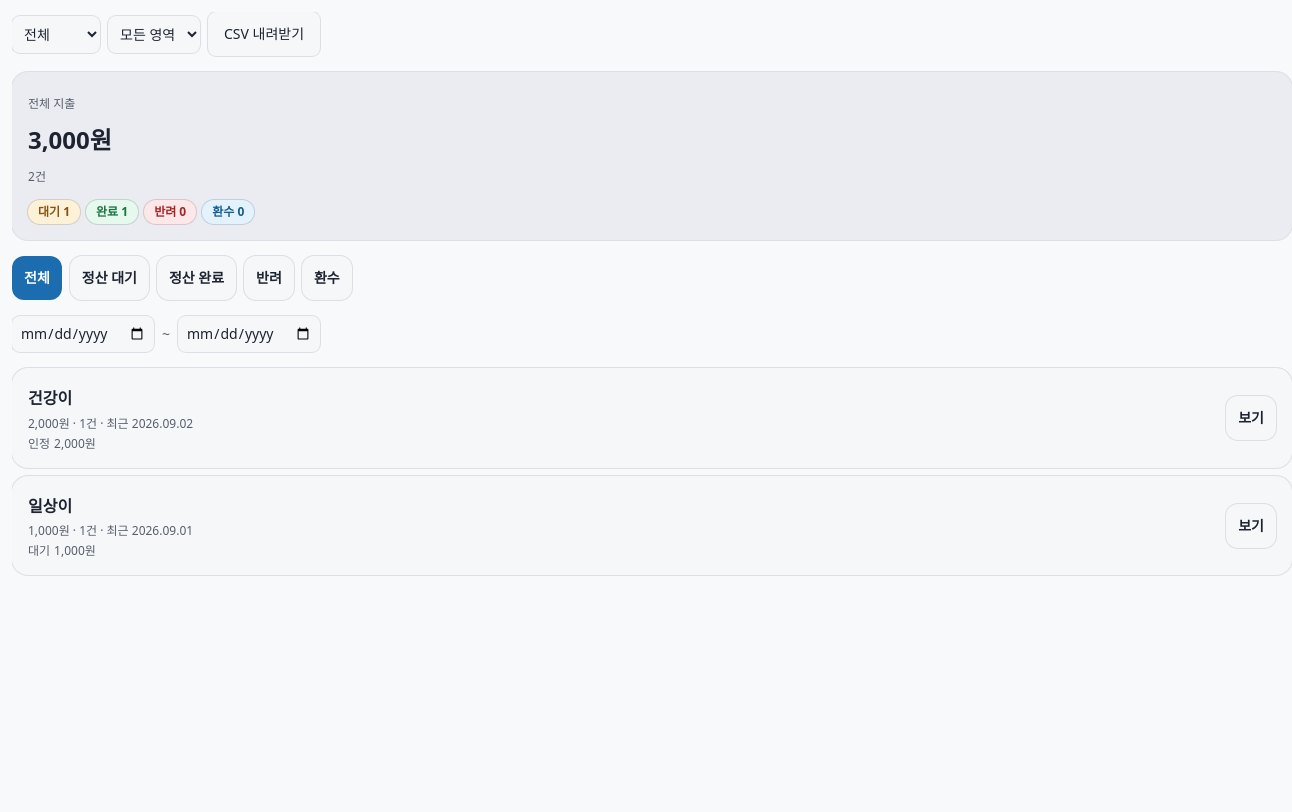
it: OrgLedgerClient — 영역 필터 + CSV export (A5) › 영역을 고르면 그 영역이 아닌 참여자가 사라진다
The image size is (1292, 812).
Expected: the text "일상이" is shown, top-left (28, 495), bottom-right (72, 517)
Expected: the text "건강이" is shown, top-left (28, 387), bottom-right (72, 409)
Select "건강" in the dropdown named "영역" at (154, 34), box top-left (108, 16), bottom-right (200, 52)
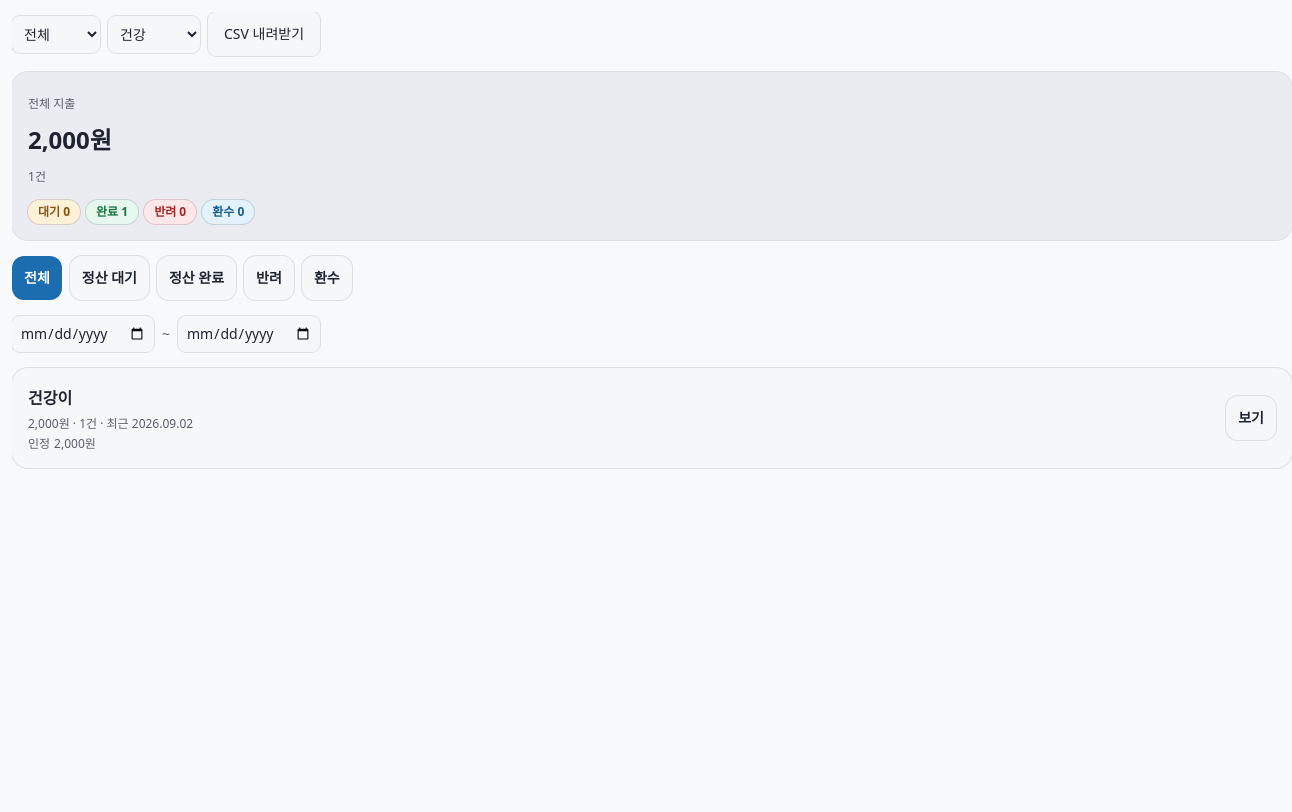
Expected: the text "건강이" is shown, top-left (28, 387), bottom-right (72, 409)
Expected: the button "일상이" is gone
